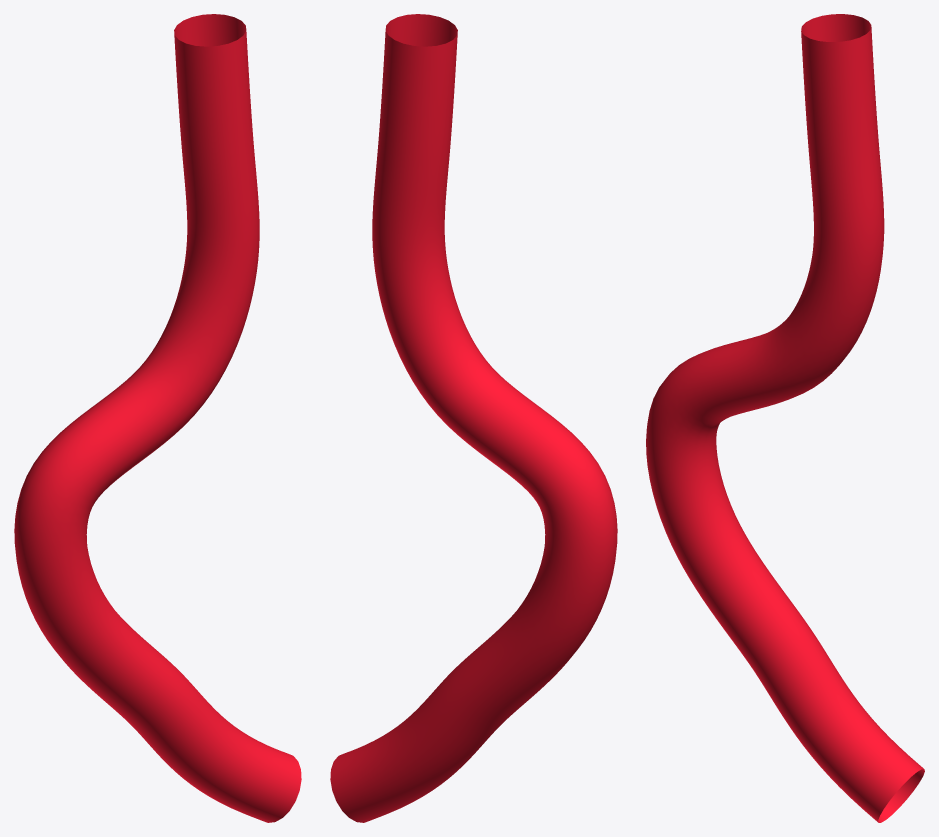
Rendered from vesselkid4.obj.
3 renders of one model, left to right at view 1: azimuth 30°, elevation 25°; view 2: azimuth 150°, elevation 25°; view 3: azimuth 330°, elevation 25°, orthographic. The views are drawn at different scales.
Visible parts, largest first — view 1: grp1; view 2: grp1; view 3: grp1.
Part boxes in pixels (left/top/right/bottom): grp1: left=14, top=14, right=301, bottom=822; grp1: left=330, top=14, right=617, bottom=822; grp1: left=646, top=14, right=924, bottom=822.
Bounding box in the file's own units: 73.42 × 206 × 16.88.
